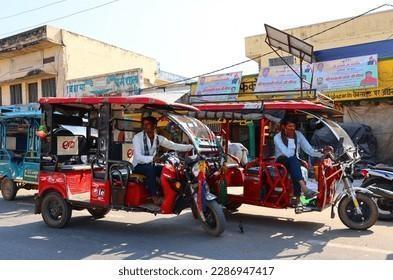keke: (38, 86, 228, 242)
